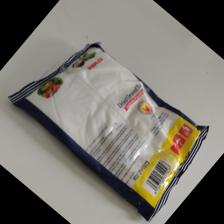Salt: (7, 41, 211, 224)
